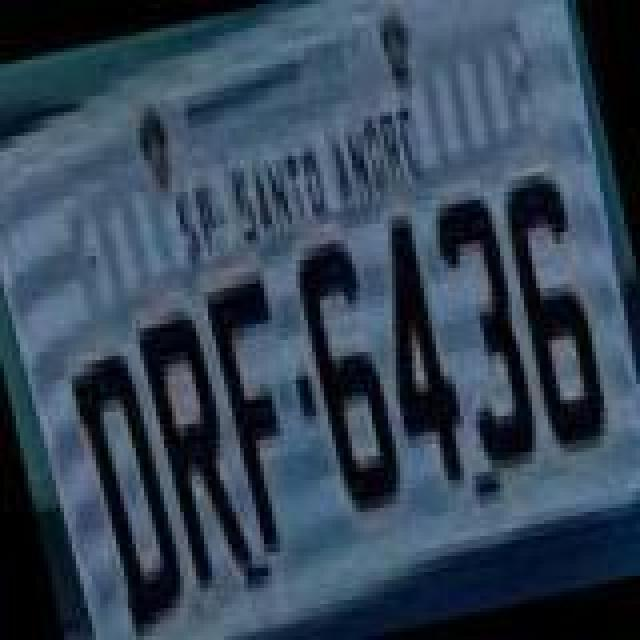3: (426, 190, 550, 482)
4: (354, 206, 478, 498)
6: (494, 168, 626, 464), (288, 228, 416, 524)
D: (62, 344, 194, 640)
F: (202, 268, 326, 564)
R: (130, 304, 262, 608)
